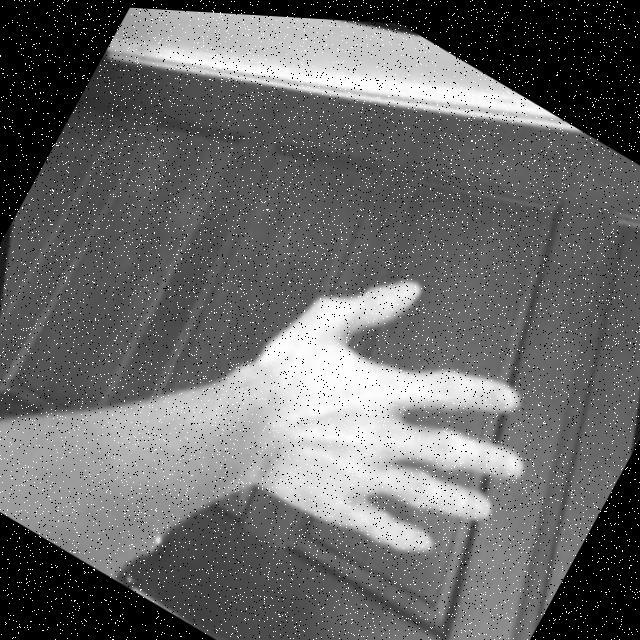no-gloves: (183, 205, 580, 606)
